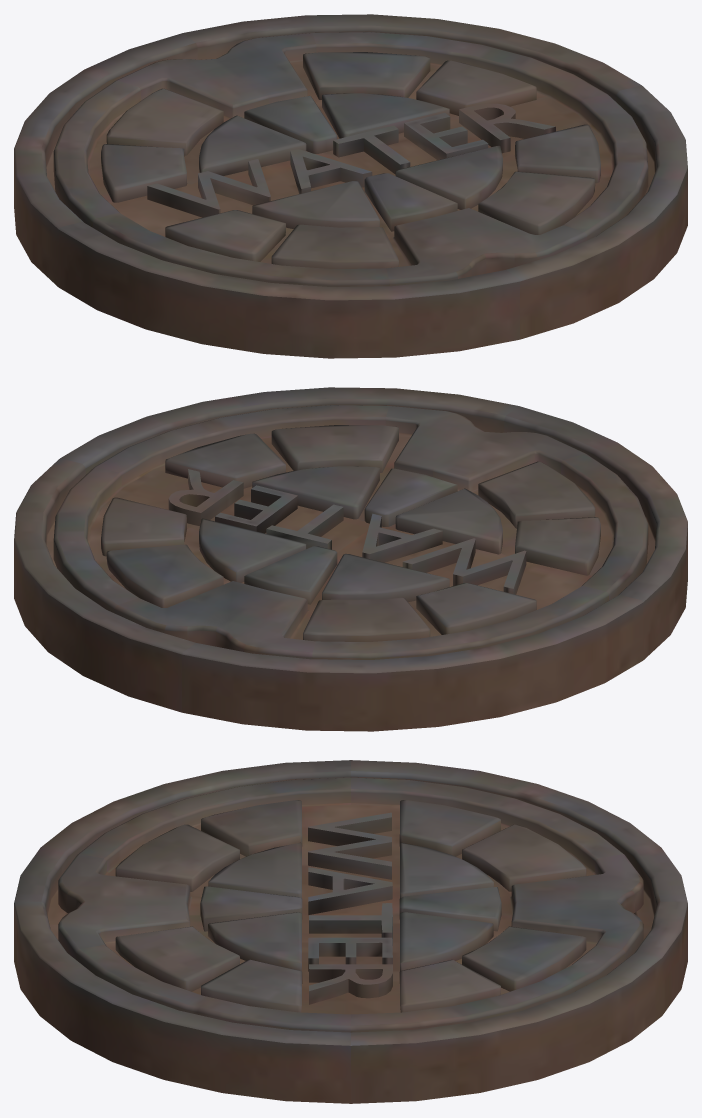
File: plaque_egout_lod0.glb
3 views of the same model, one above another, from view 1: azimuth 30°, elevation 25°; view 2: azimuth 150°, elevation 25°; view 3: azimuth 270°, elevation 25° (orthographic).
Parts seen in each view (by area): view 1: water_manhole_cover_frame; view 2: water_manhole_cover_frame; view 3: water_manhole_cover_frame.
Part boxes in pixels (x1,y1,x2,y2): water_manhole_cover_frame: [14, 14, 687, 358]; water_manhole_cover_frame: [14, 387, 687, 731]; water_manhole_cover_frame: [14, 760, 687, 1103].
Size of the model in its own units: 0.6908 by 0.0676 by 0.6908.
1 material, 1 textured.
